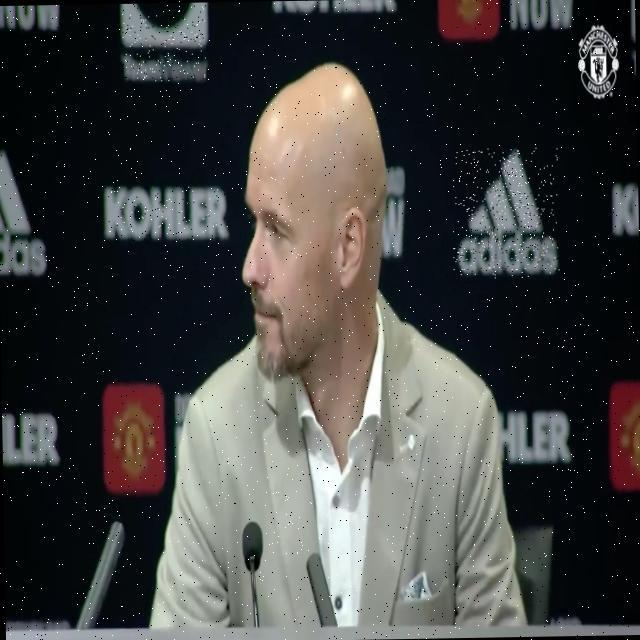Adidas: (451, 147, 559, 279)
Kohler: (104, 185, 228, 242)
TeamViewer: (121, 4, 208, 82)
